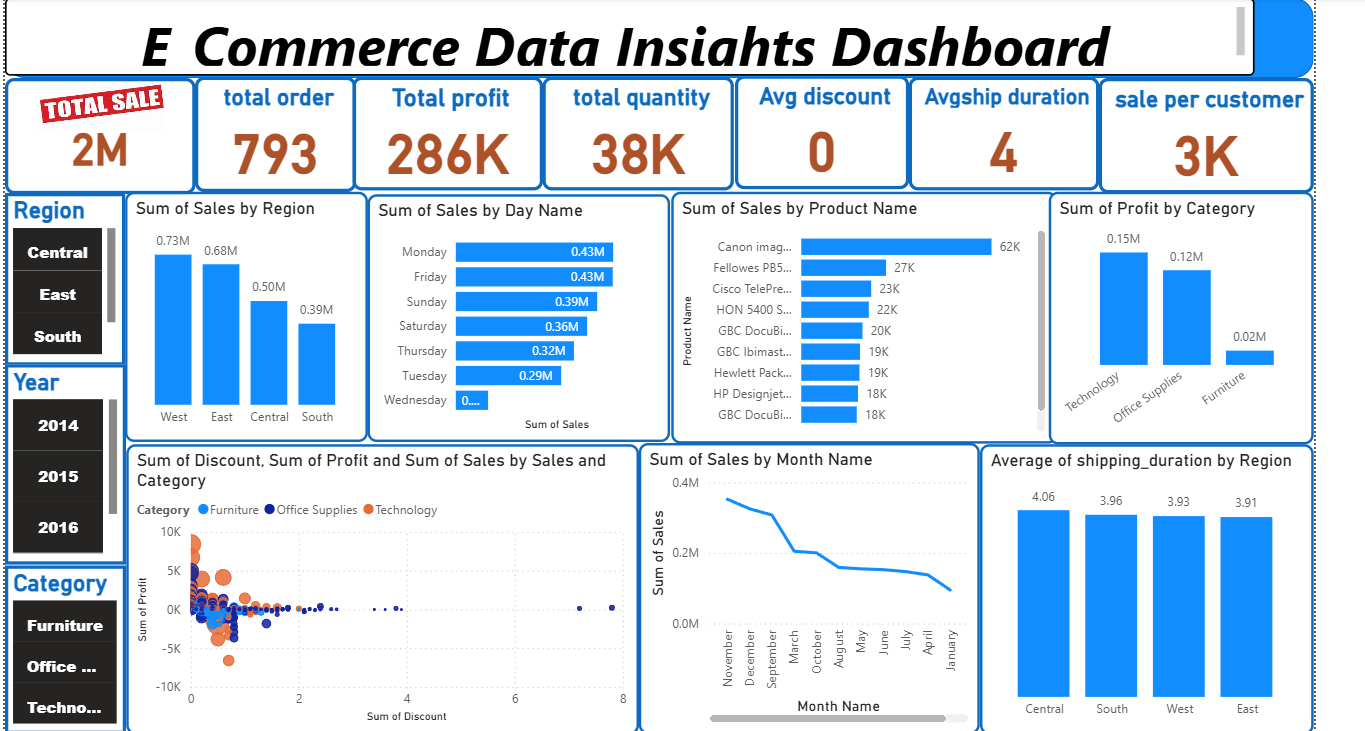

What the dashboard file says about the page in this screenshot:
{"tool":"powerbi","page":{"name":"Page 1","canvas":[1280,720],"ordinal":0},"visuals":[{"type":"lineChart","fields":{"Category":["super_store_sales.Month Name"],"Y":["Sum(super_store_sales.Sales)"]},"box":[620,435,333.8,285],"z":0},{"type":"clusteredColumnChart","fields":{"Category":["super_store_sales.Region"],"Y":["Sum(super_store_sales.Sales)"]},"box":[117.5,190,237.5,245],"z":1000},{"type":"clusteredBarChart","fields":{"Category":["super_store_sales.Product Name"],"Y":["Sum(super_store_sales.Sales)"]},"box":[651.2,190,377.5,246.2],"z":2000},{"type":"clusteredColumnChart","fields":{"Y":["Sum(super_store_sales.Profit)"],"Category":["super_store_sales.Category"]},"box":[1021,189,259,247],"z":3000},{"type":"scatterChart","fields":{"X":["Sum(super_store_sales.Discount)"],"Y":["Sum(super_store_sales.Profit)"],"Size":["Sum(super_store_sales.Sales)"],"Category":["super_store_sales.Sales"],"Series":["super_store_sales.Category"]},"box":[118.8,436.2,501.2,283.8],"z":4000},{"type":"clusteredBarChart","fields":{"Category":["super_store_sales.Day Name"],"Y":["Sum(super_store_sales.Sales)"]},"box":[355,192.5,296.2,242.5],"z":5000},{"type":"clusteredColumnChart","fields":{"Category":["super_store_sales.Region"],"Y":["Avg(super_store_sales.shipping_duration)"]},"box":[953.8,436.2,326.2,283.8],"z":6000},{"type":"card","title":"t","fields":{"Values":["super_store_sales.total sale"]},"box":[0,78.8,186.2,113.8],"z":7000},{"type":"card","title":"total quantity","fields":{"Values":["super_store_sales.total quantity"]},"box":[526.2,77.5,187.5,111.2],"z":8000},{"type":"card","title":"Total  profit","fields":{"Values":["super_store_sales.total profit"]},"box":[340,77.5,186.2,111.2],"z":9000},{"type":"card","title":"sale per customer","fields":{"Values":["super_store_sales.sales per customer"]},"box":[1070,78.3,210.3,112.5],"z":10000},{"type":"card","title":"total order","fields":{"Values":["super_store_sales.total orders"]},"box":[186.2,77.5,157.5,112.5],"z":11000},{"type":"card","title":"Avgship duration","fields":{"Values":["super_store_sales.average ship duration"]},"box":[883.8,77.5,186.2,111.2],"z":12000},{"type":"card","title":"Avg discount","fields":{"Values":["super_store_sales.average Discoun"]},"box":[713.8,76.2,170,111.2],"z":13000},{"type":"shape","box":[0,0,1280.3,78.3],"z":14000},{"type":"advancedSlicerVisual","fields":{"Values":["super_store_sales.Region"]},"box":[0,191.2,117.5,168.8],"z":15000},{"type":"advancedSlicerVisual","fields":{"Values":["super_store_sales.Category"]},"box":[0,555,118.8,165],"z":16000},{"type":"advancedSlicerVisual","fields":{"Values":["super_store_sales.Year"]},"box":[0,358.8,118.8,196.2],"z":17000},{"type":"image","box":[26.2,78.8,135,57.5],"z":18000},{"type":"textbox","box":[0,0,1222,76],"z":19000}]}

Visuals, with their boxes in screenshot pixels (x1, y1, x2, y2):
lineChart - super_store_sales.Month Name x Sum(super_store_sales.Sales): pyautogui.locateOnScreen(641, 442, 988, 730)
clusteredColumnChart - super_store_sales.Region x Sum(super_store_sales.Sales): pyautogui.locateOnScreen(119, 187, 366, 442)
clusteredBarChart - super_store_sales.Product Name x Sum(super_store_sales.Sales): pyautogui.locateOnScreen(674, 187, 1066, 443)
clusteredColumnChart - Sum(super_store_sales.Profit) x super_store_sales.Category: pyautogui.locateOnScreen(1058, 186, 1327, 443)
scatterChart - Sum(super_store_sales.Discount) x Sum(super_store_sales.Profit): pyautogui.locateOnScreen(120, 443, 641, 730)
clusteredBarChart - super_store_sales.Day Name x Sum(super_store_sales.Sales): pyautogui.locateOnScreen(366, 190, 674, 442)
clusteredColumnChart - super_store_sales.Region x Avg(super_store_sales.shipping_duration): pyautogui.locateOnScreen(988, 443, 1327, 730)
"t" card: pyautogui.locateOnScreen(0, 71, 190, 190)
"total quantity" card: pyautogui.locateOnScreen(544, 70, 739, 186)
"Total  profit" card: pyautogui.locateOnScreen(350, 70, 544, 186)
"sale per customer" card: pyautogui.locateOnScreen(1109, 71, 1328, 188)
"total order" card: pyautogui.locateOnScreen(190, 70, 354, 187)
"Avgship duration" card: pyautogui.locateOnScreen(915, 70, 1109, 186)
"Avg discount" card: pyautogui.locateOnScreen(739, 69, 915, 184)
shape: pyautogui.locateOnScreen(0, 0, 1328, 71)
advancedSlicerVisual - super_store_sales.Region: pyautogui.locateOnScreen(0, 188, 119, 364)
advancedSlicerVisual - super_store_sales.Category: pyautogui.locateOnScreen(0, 566, 120, 730)
advancedSlicerVisual - super_store_sales.Year: pyautogui.locateOnScreen(0, 362, 120, 566)
image: pyautogui.locateOnScreen(24, 71, 164, 131)
textbox: pyautogui.locateOnScreen(0, 0, 1267, 68)
